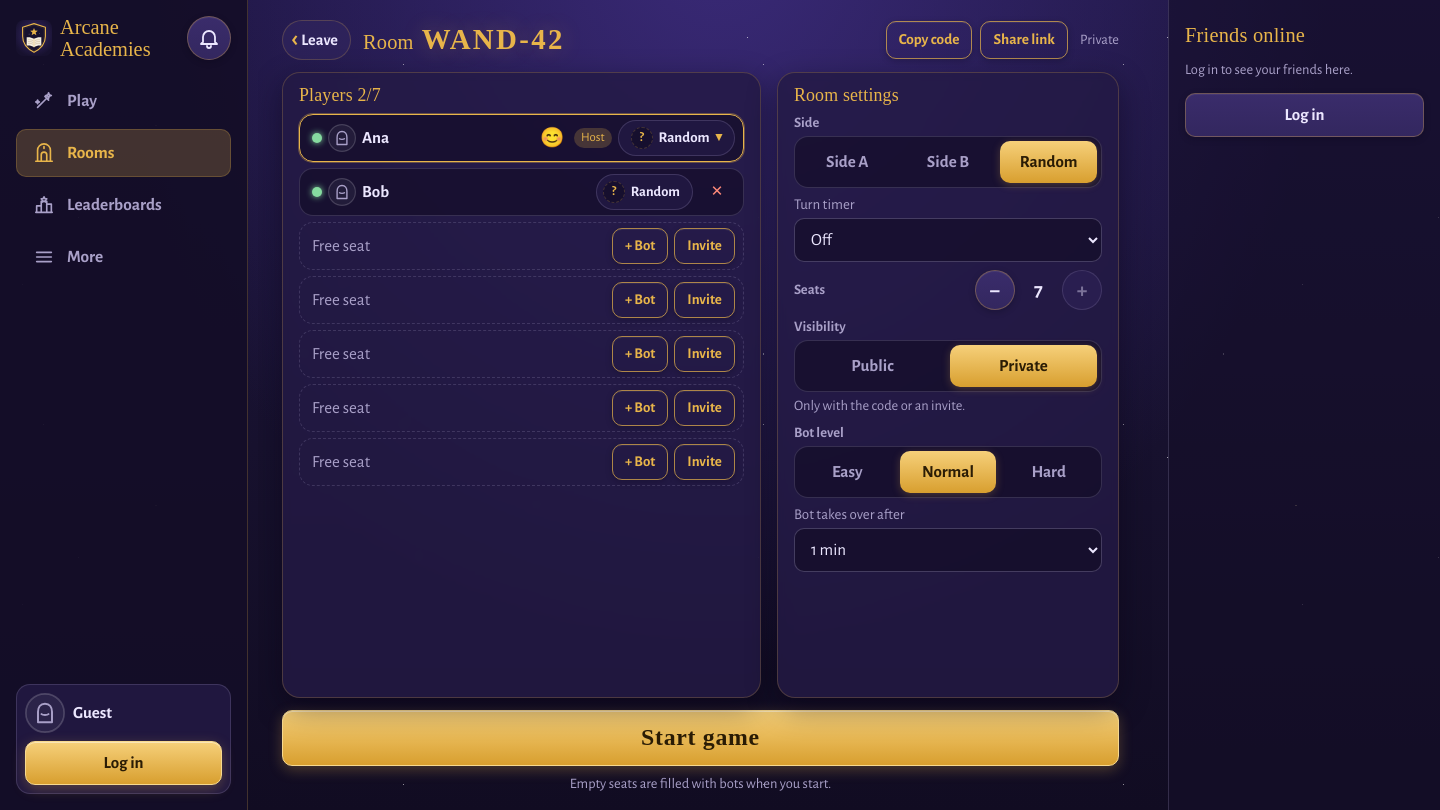
reactions in the lobby › picks a reaction from the picker and sends it
Click the button named "React" at (550, 138), box [532,120,568,156]
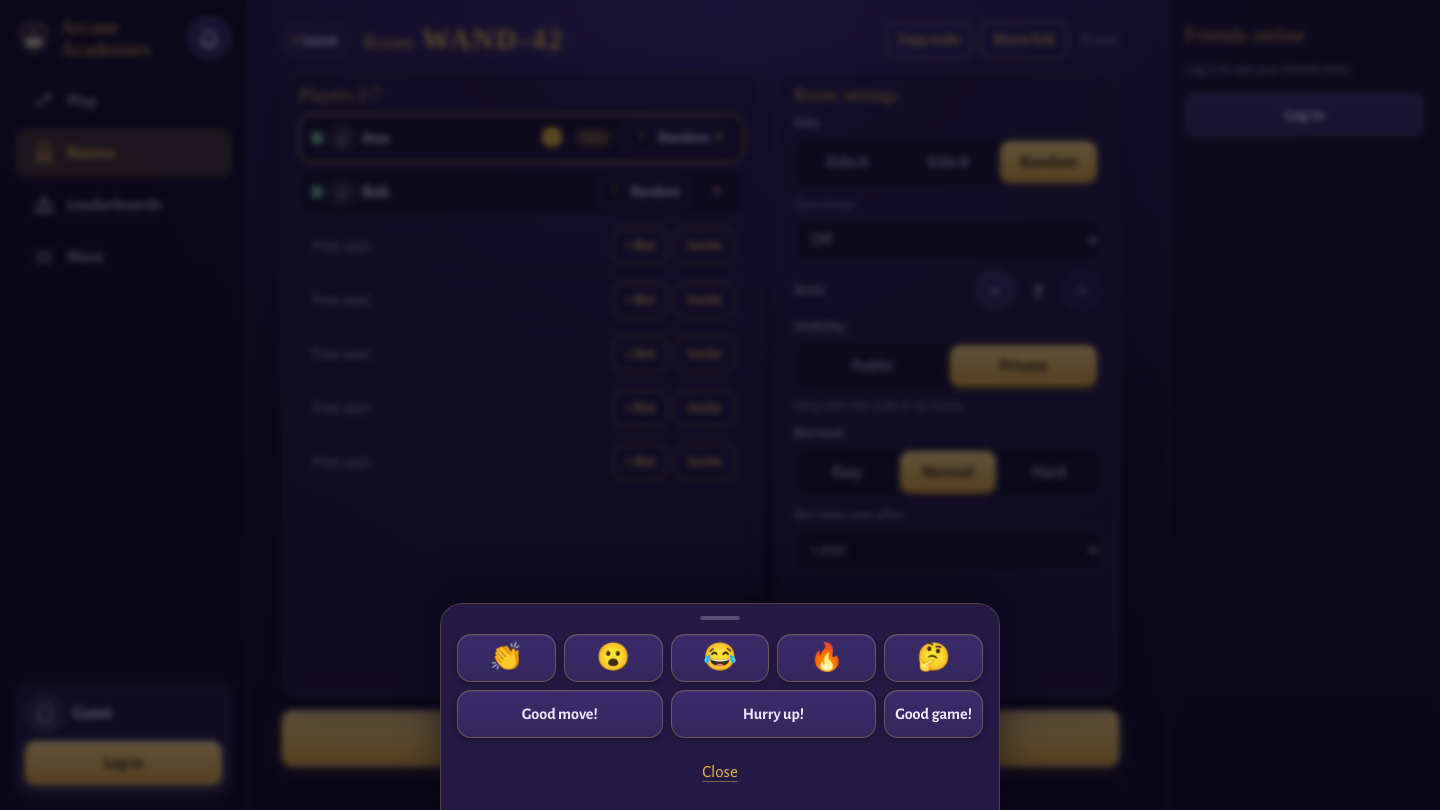
Expected: the number of dialogs named "React" is 1, [440,603,1000,809]
Click the button "Good move!" at (560, 714), box [457,690,663,738]
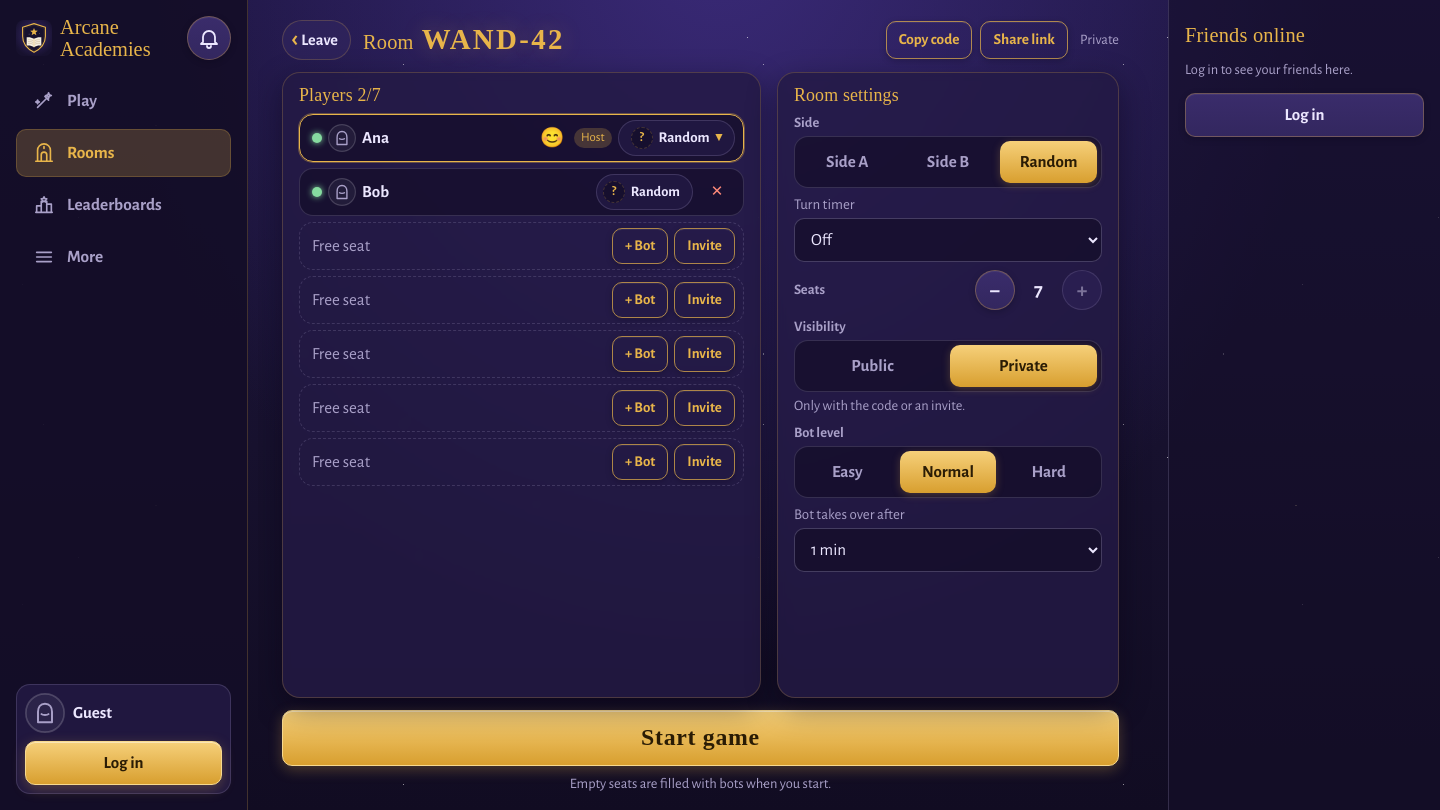
Expected: the dialog "👏 😮 😂 🔥 🤔 Good move! Hurry up! Good game! Close" is gone
